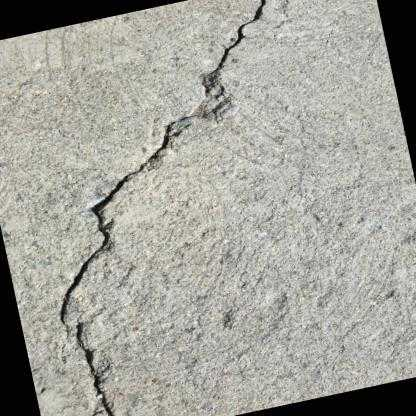crack: (58, 0, 265, 334), (73, 321, 113, 416)
